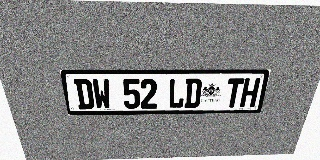2: (140, 79, 157, 109)
5: (123, 79, 140, 109)
D: (73, 79, 95, 109), (184, 78, 202, 108)
H: (239, 78, 261, 107)
L: (168, 79, 185, 108)
T: (224, 78, 244, 107)
W: (92, 79, 112, 109)
